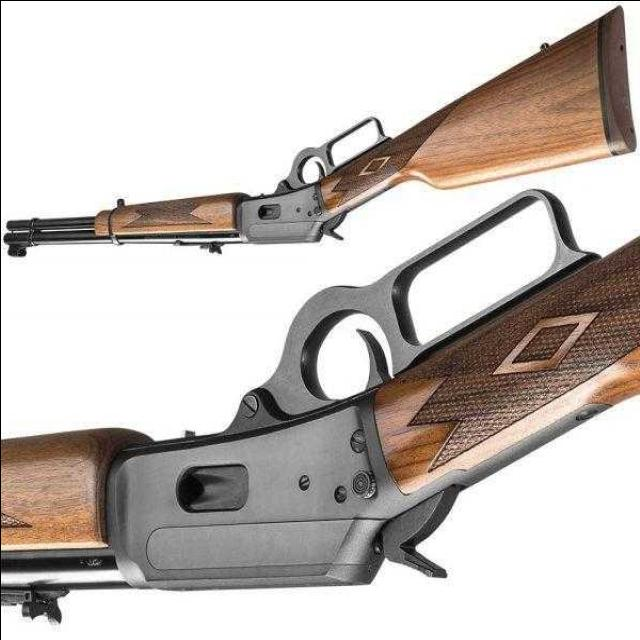heavyweapon: (1, 192, 640, 627), (7, 13, 625, 305)
